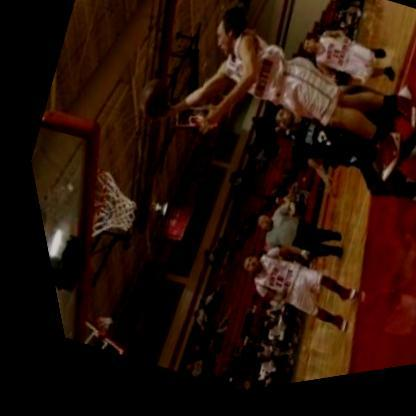basketball: (124, 75, 180, 130)
